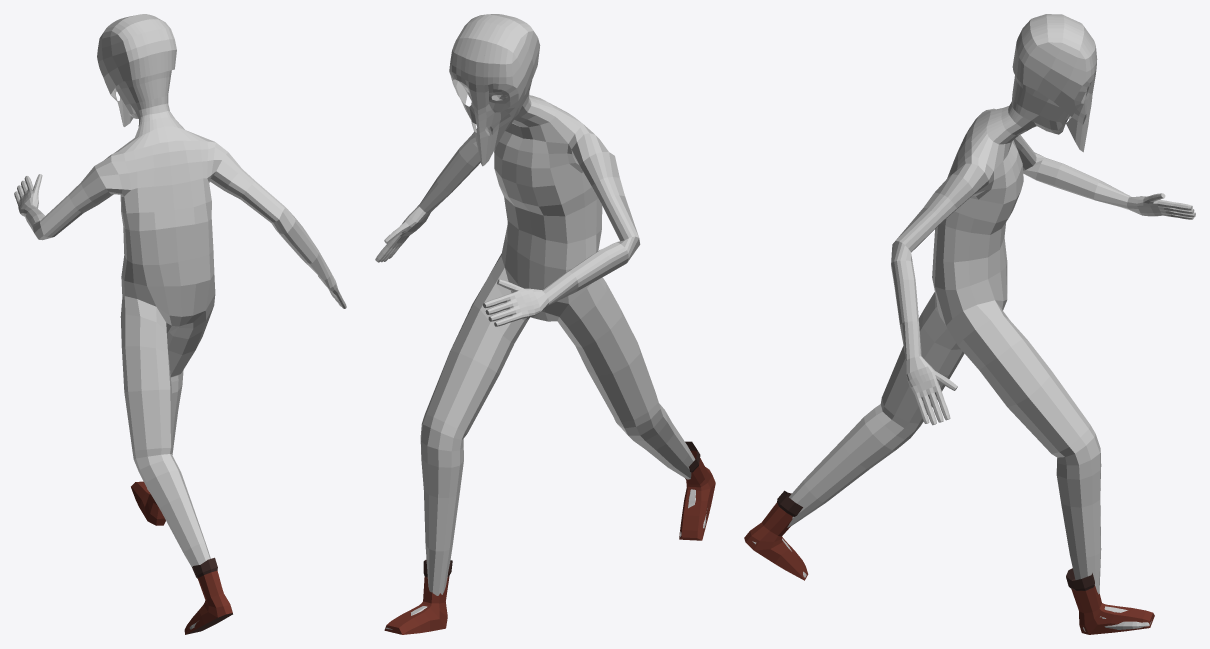
The model's file is marcha5_000054.obj.
3 renders of one model, left to right at view 1: azimuth 30°, elevation 25°; view 2: azimuth 150°, elevation 25°; view 3: azimuth 270°, elevation 25°, orthographic. The views are drawn at different scales.
Visible parts, largest first — view 1: Plane.002_Plane.001, Plane.004, Plane.003; view 2: Plane.002_Plane.001, Plane.004, Plane.003; view 3: Plane.002_Plane.001, Plane.004, Plane.003.
Boxes of the visible parts, left/top/right/bottom form: Plane.002_Plane.001: left=14, top=14, right=346, bottom=629; Plane.004: left=184, top=557, right=232, bottom=634; Plane.003: left=131, top=481, right=165, bottom=525; Plane.002_Plane.001: left=375, top=14, right=707, bottom=629; Plane.004: left=679, top=441, right=715, bottom=540; Plane.003: left=384, top=559, right=452, bottom=634; Plane.002_Plane.001: left=752, top=14, right=1195, bottom=631; Plane.004: left=744, top=490, right=808, bottom=580; Plane.003: left=1066, top=568, right=1154, bottom=634.
Size of the model in its own units: 3.43 by 6.53 by 4.51.
